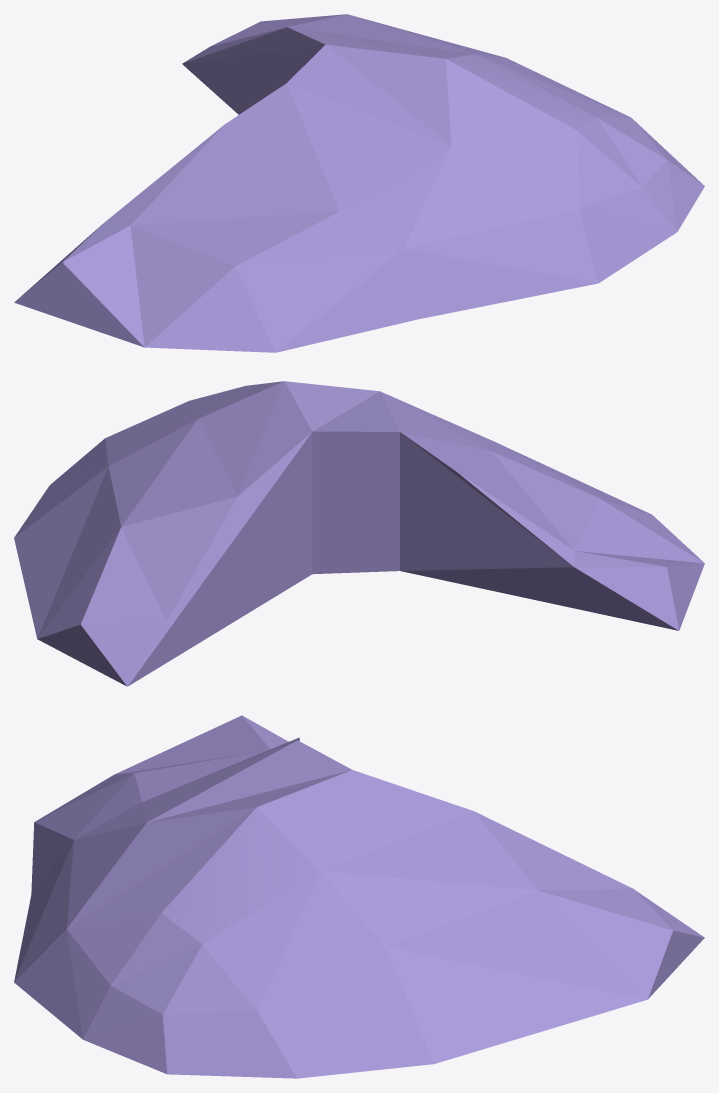
The model's file is Rubble_Corner_Out_Col.FBX.
3 views of the same model, one above another, from view 1: azimuth 30°, elevation 25°; view 2: azimuth 150°, elevation 25°; view 3: azimuth 270°, elevation 25° (orthographic). The views are drawn at different scales.
Parts seen in each view (by area): view 1: Rubble_Corner_Out_Col; view 2: Rubble_Corner_Out_Col; view 3: Rubble_Corner_Out_Col.
Boxes of the visible parts, x1,y1,x2,y2 form: Rubble_Corner_Out_Col: [14, 14, 704, 352]; Rubble_Corner_Out_Col: [14, 381, 704, 686]; Rubble_Corner_Out_Col: [14, 715, 704, 1078].
Bounding box in the file's own units: 470 × 104 × 415.
